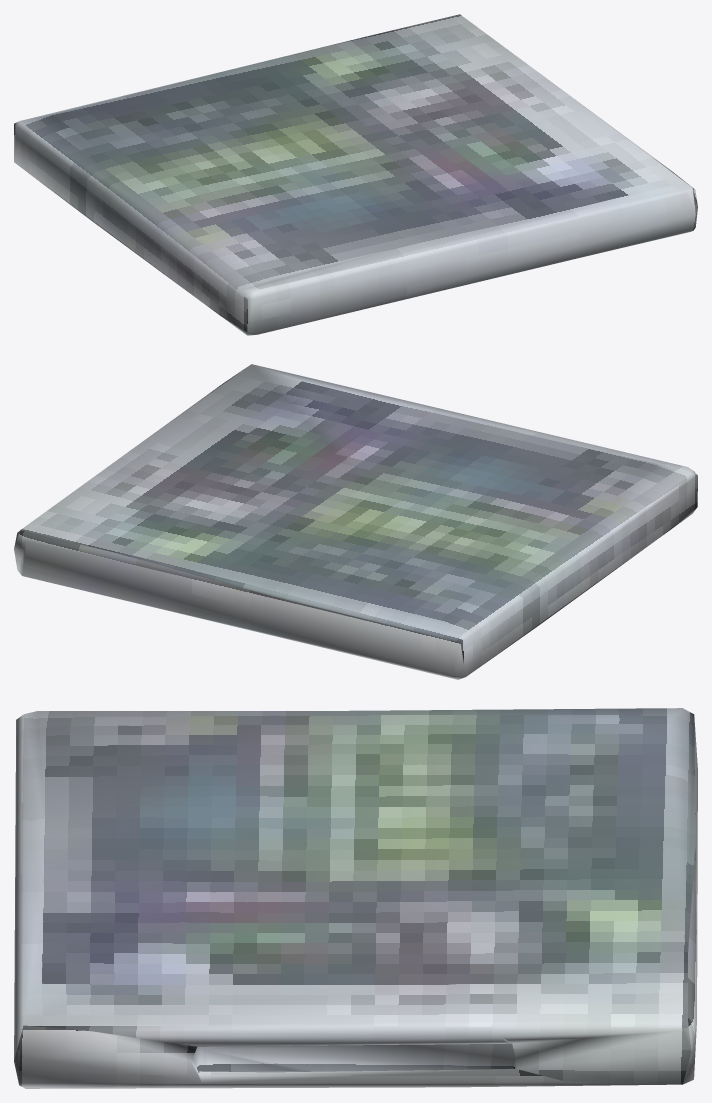
File: Luigis_Mansion_Dark_Moon_Nintendo_3DS_Game-low.glb
3 views of the same model, one above another, from view 1: azimuth 30°, elevation 25°; view 2: azimuth 150°, elevation 25°; view 3: azimuth 270°, elevation 25° (orthographic). The views are drawn at different scales.
Visible parts, largest first — view 1: Luigis_Mansion_Dark_Moon_Nintendo_3DS_Game; view 2: Luigis_Mansion_Dark_Moon_Nintendo_3DS_Game; view 3: Luigis_Mansion_Dark_Moon_Nintendo_3DS_Game.
Part boxes in pixels (x1,y1,x2,y2): Luigis_Mansion_Dark_Moon_Nintendo_3DS_Game: [14, 14, 697, 335]; Luigis_Mansion_Dark_Moon_Nintendo_3DS_Game: [14, 364, 697, 679]; Luigis_Mansion_Dark_Moon_Nintendo_3DS_Game: [14, 708, 697, 1088].
Bounding box in the file's own units: 0.1369 × 0.0155 × 0.1249.
Materials: 1 (1 with a texture image).
